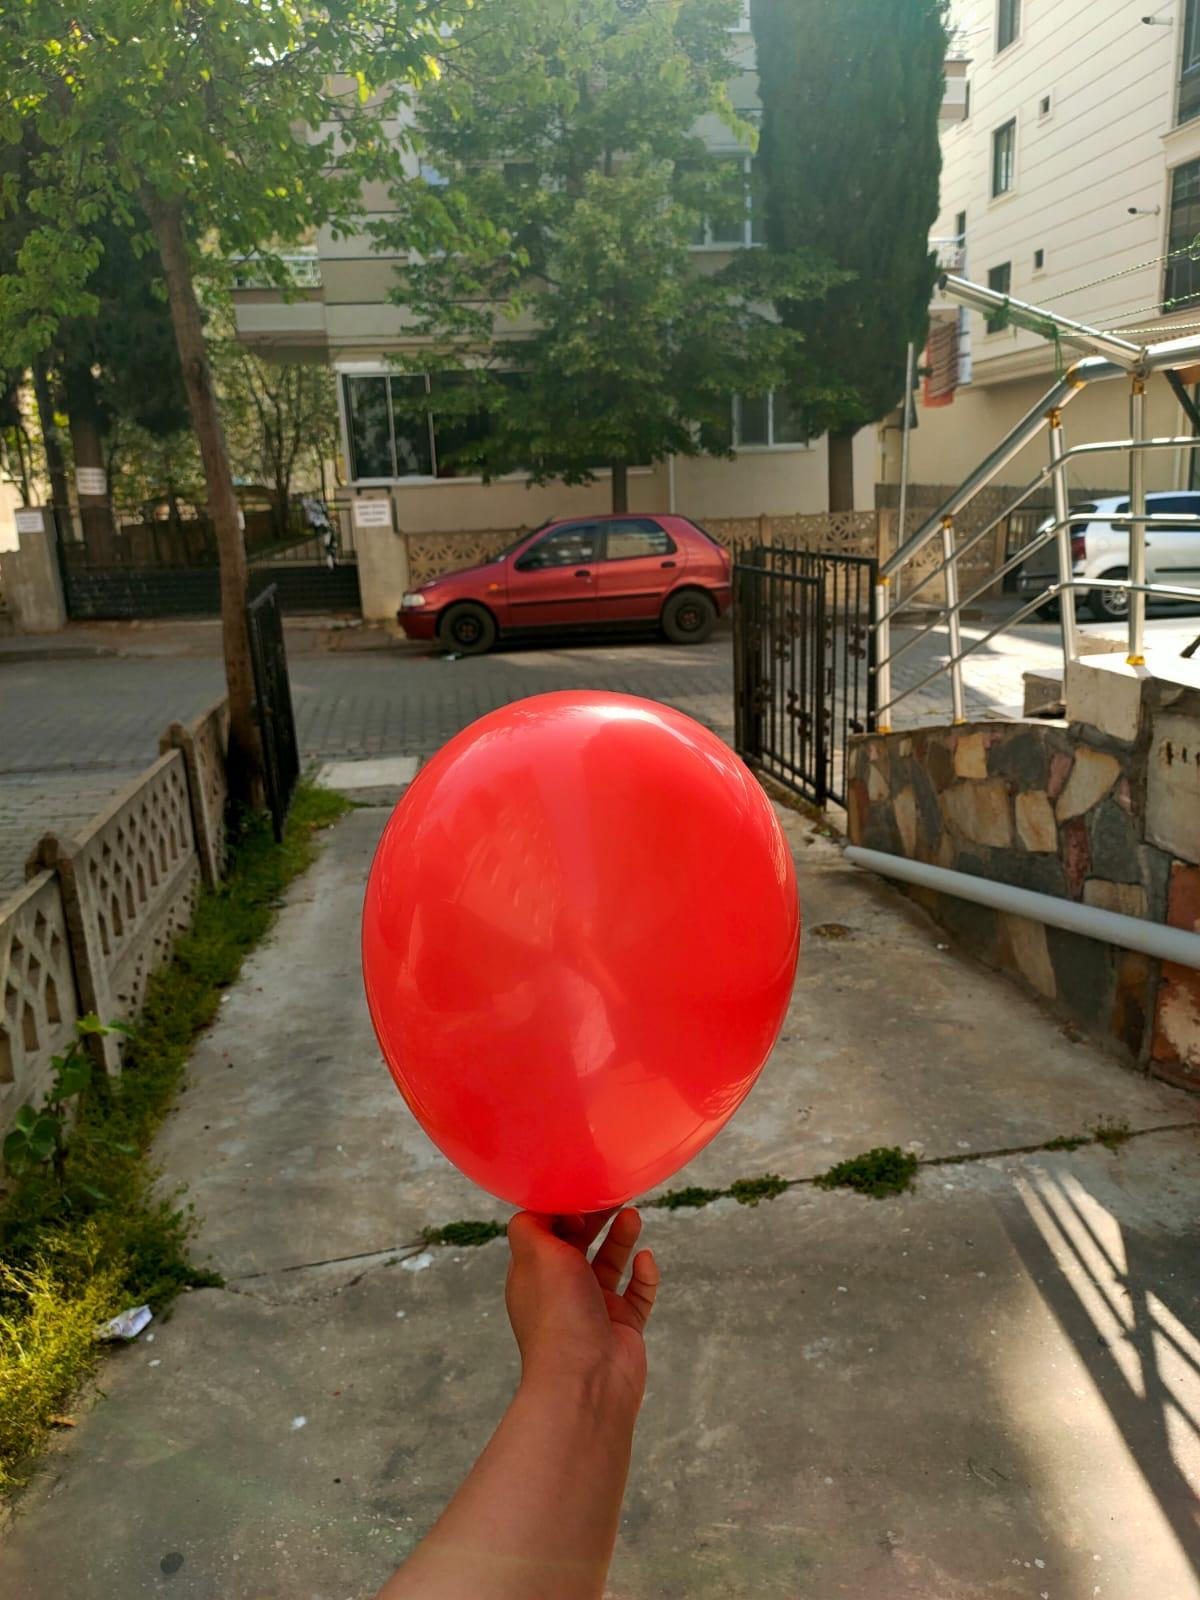red: (344, 671, 810, 1236)
